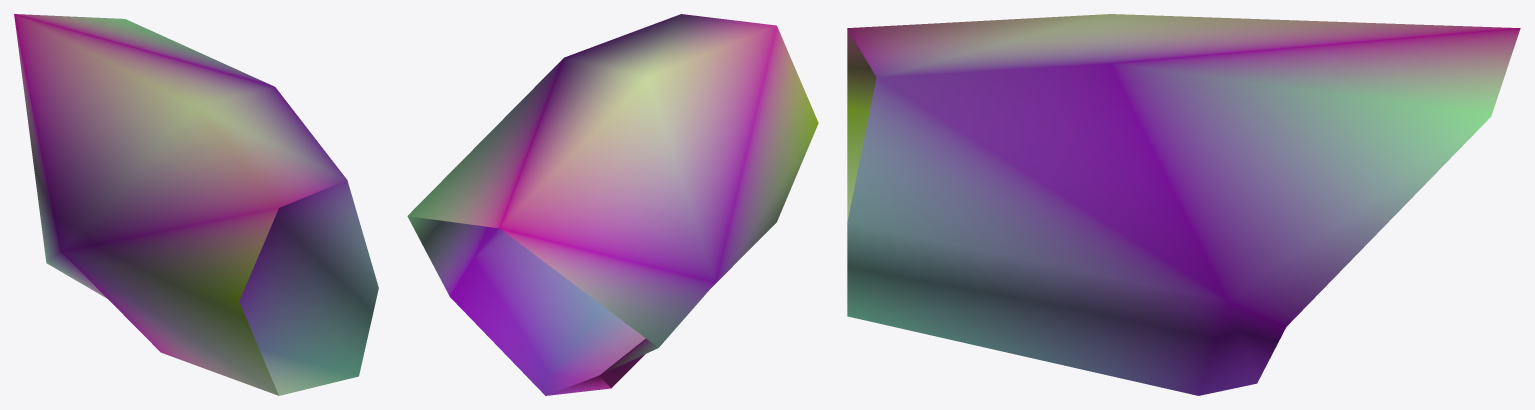
3 renders of one model, left to right at view 1: azimuth 30°, elevation 25°; view 2: azimuth 150°, elevation 25°; view 3: azimuth 270°, elevation 25°, orthographic. The views are drawn at different scales.
Parts seen in each view (by area): view 1: part; view 2: part; view 3: part.
Part boxes in pixels (left/top/right/bottom): part: left=14, top=14, right=378, bottom=395; part: left=407, top=14, right=818, bottom=395; part: left=847, top=14, right=1520, bottom=395.
Size of the model in its own units: 11 by 13 by 23.
